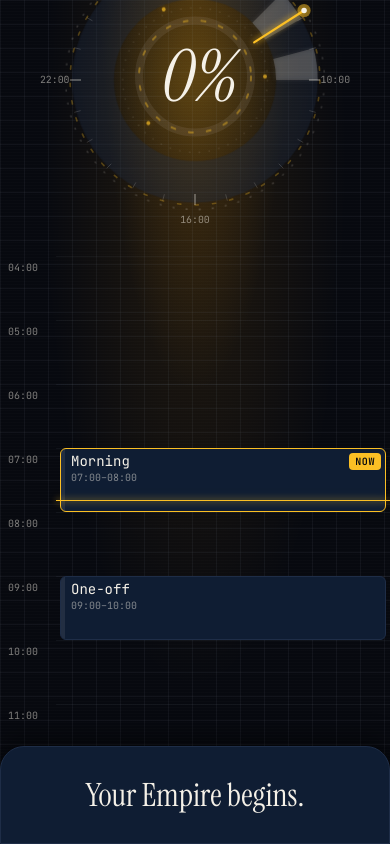
Scenario: C-m5-017: Edit mode suppresses brick log; locked mode logs normally › in locked mode tapping a block card expands it (normal M4 behavior)
This screenshot has width=390, height=844.
(page scrolled)
Click the element showing "Morning 07:00–08:00 NOW" at (223, 480), box [60, 448, 386, 512]
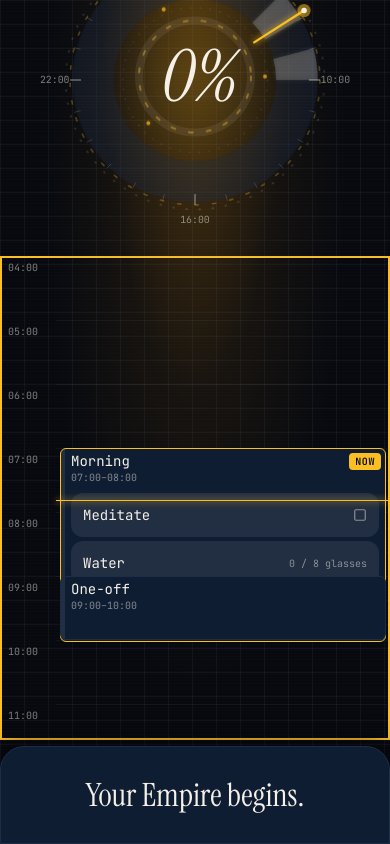
Expected: the element that starts with "Morning" is expanded, [60, 448, 386, 642]
